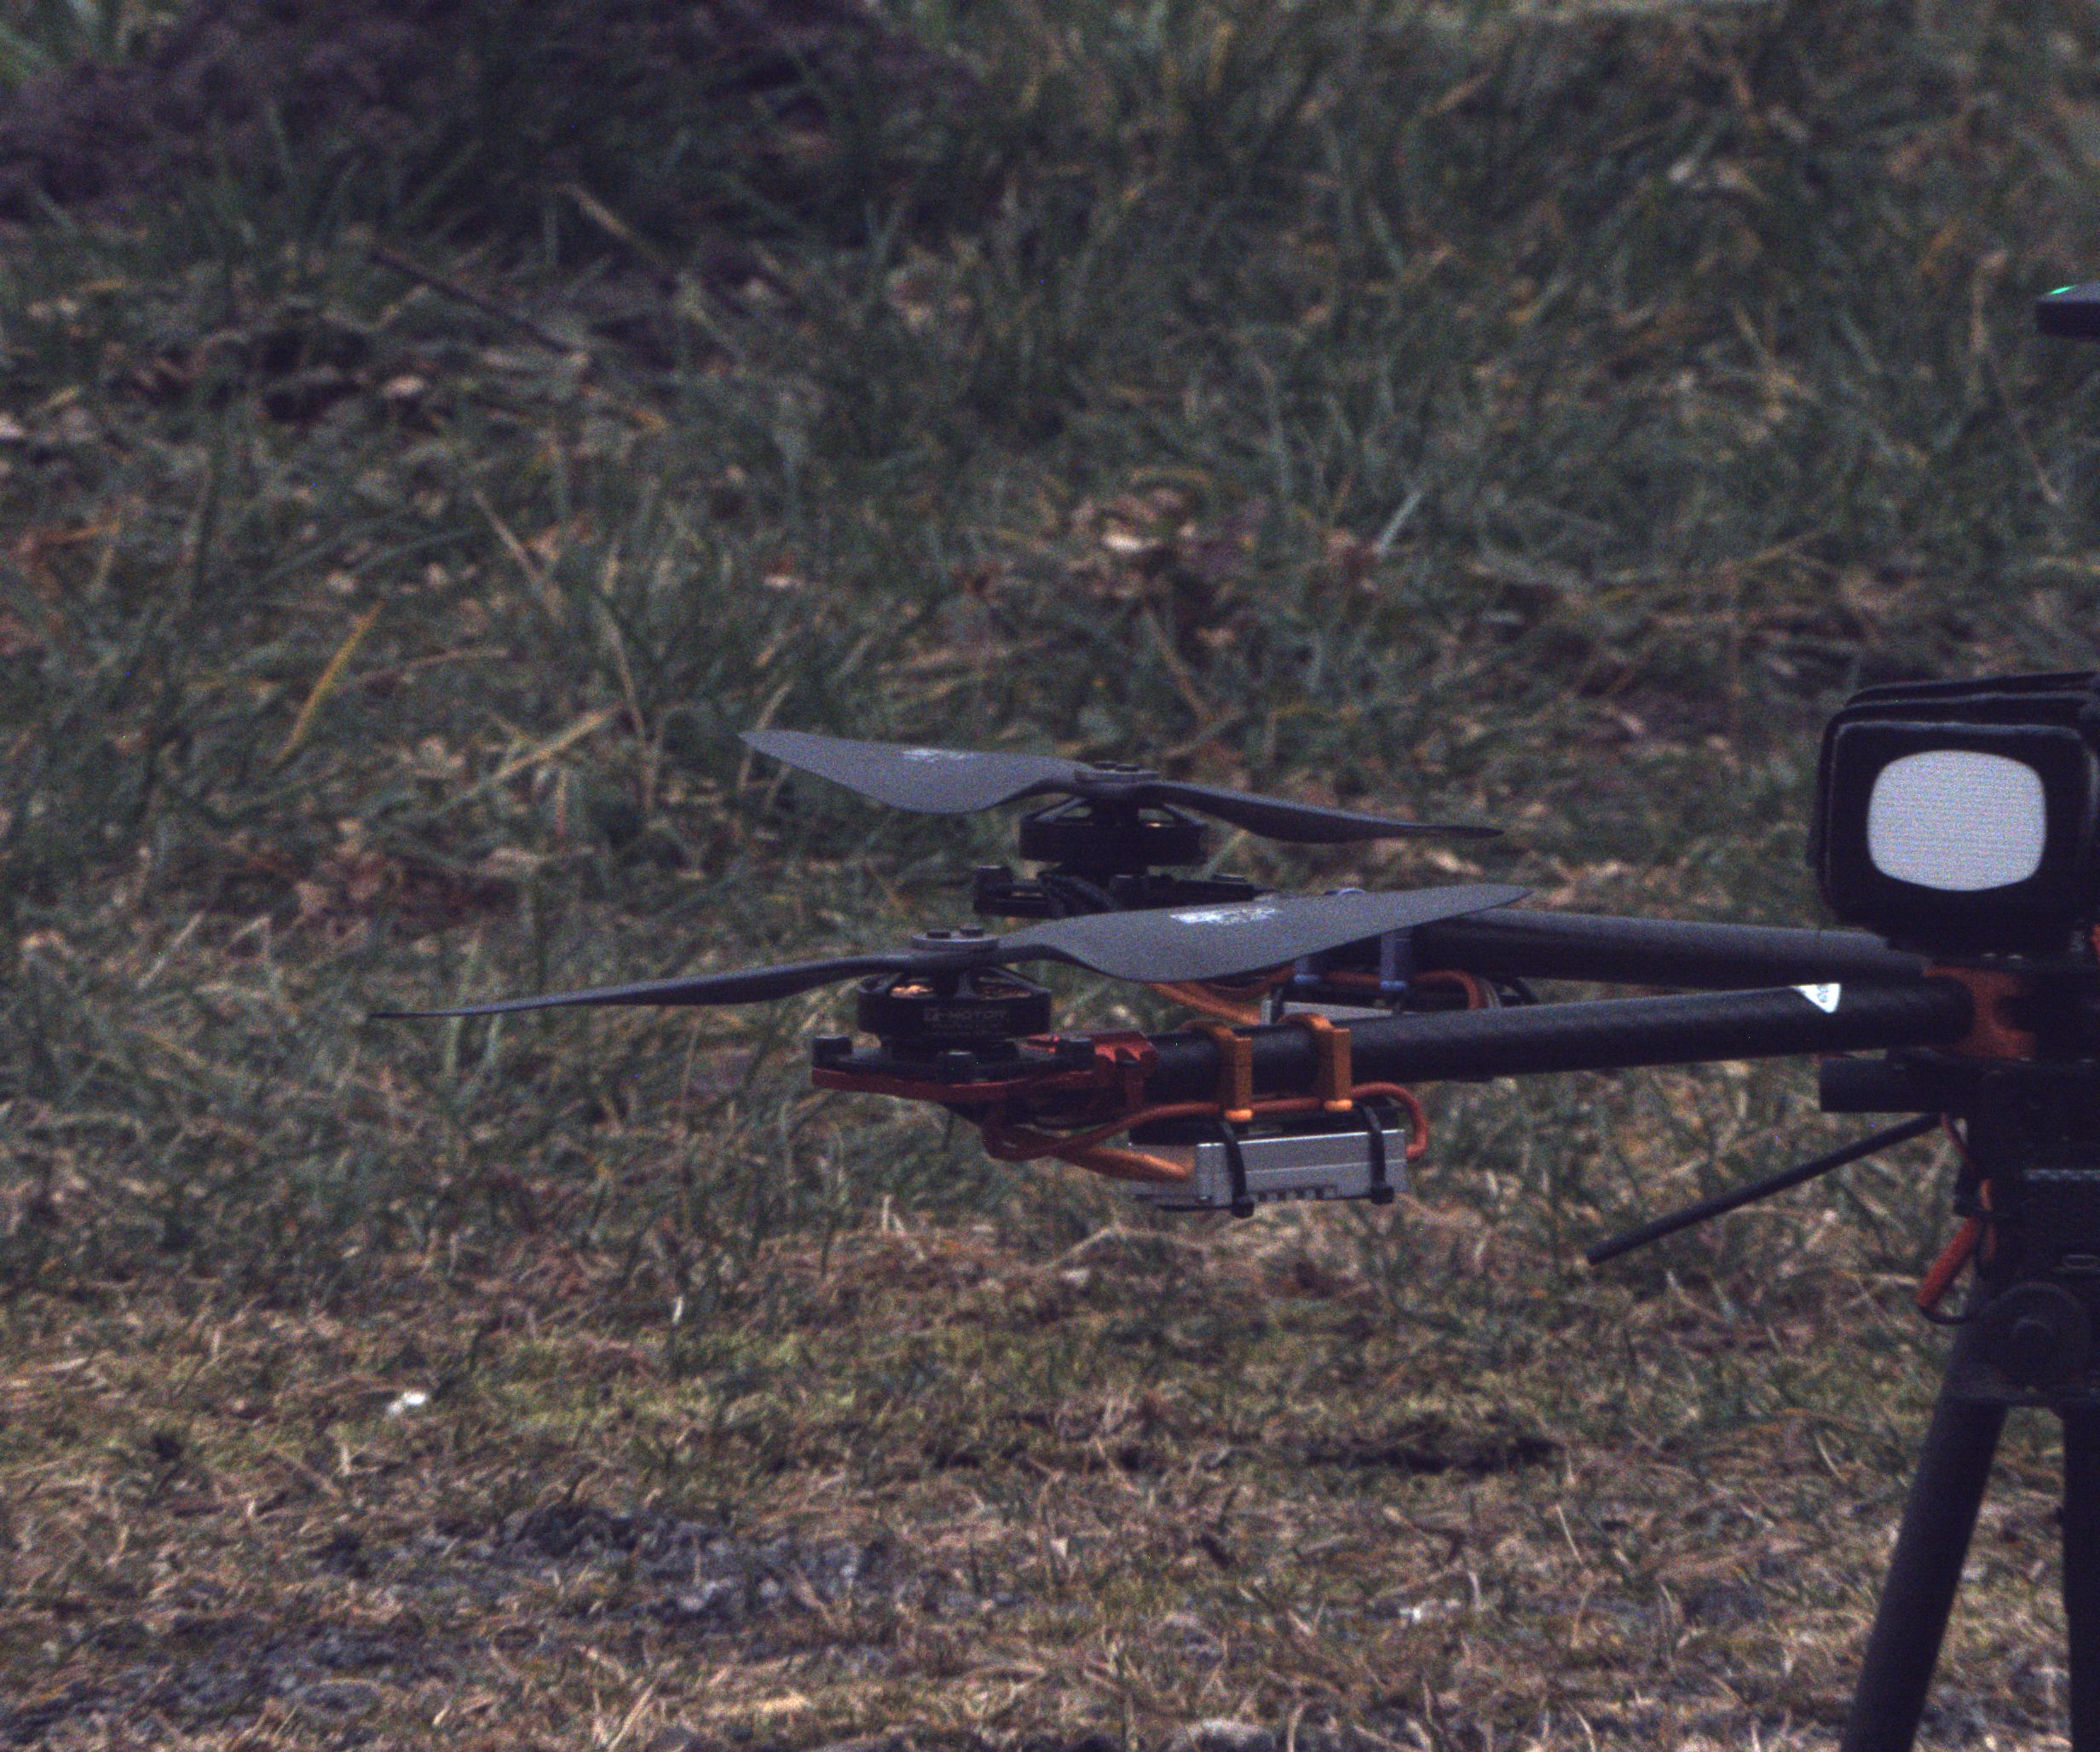Drohne: (365, 671, 2100, 1691), (2016, 221, 2100, 401)
